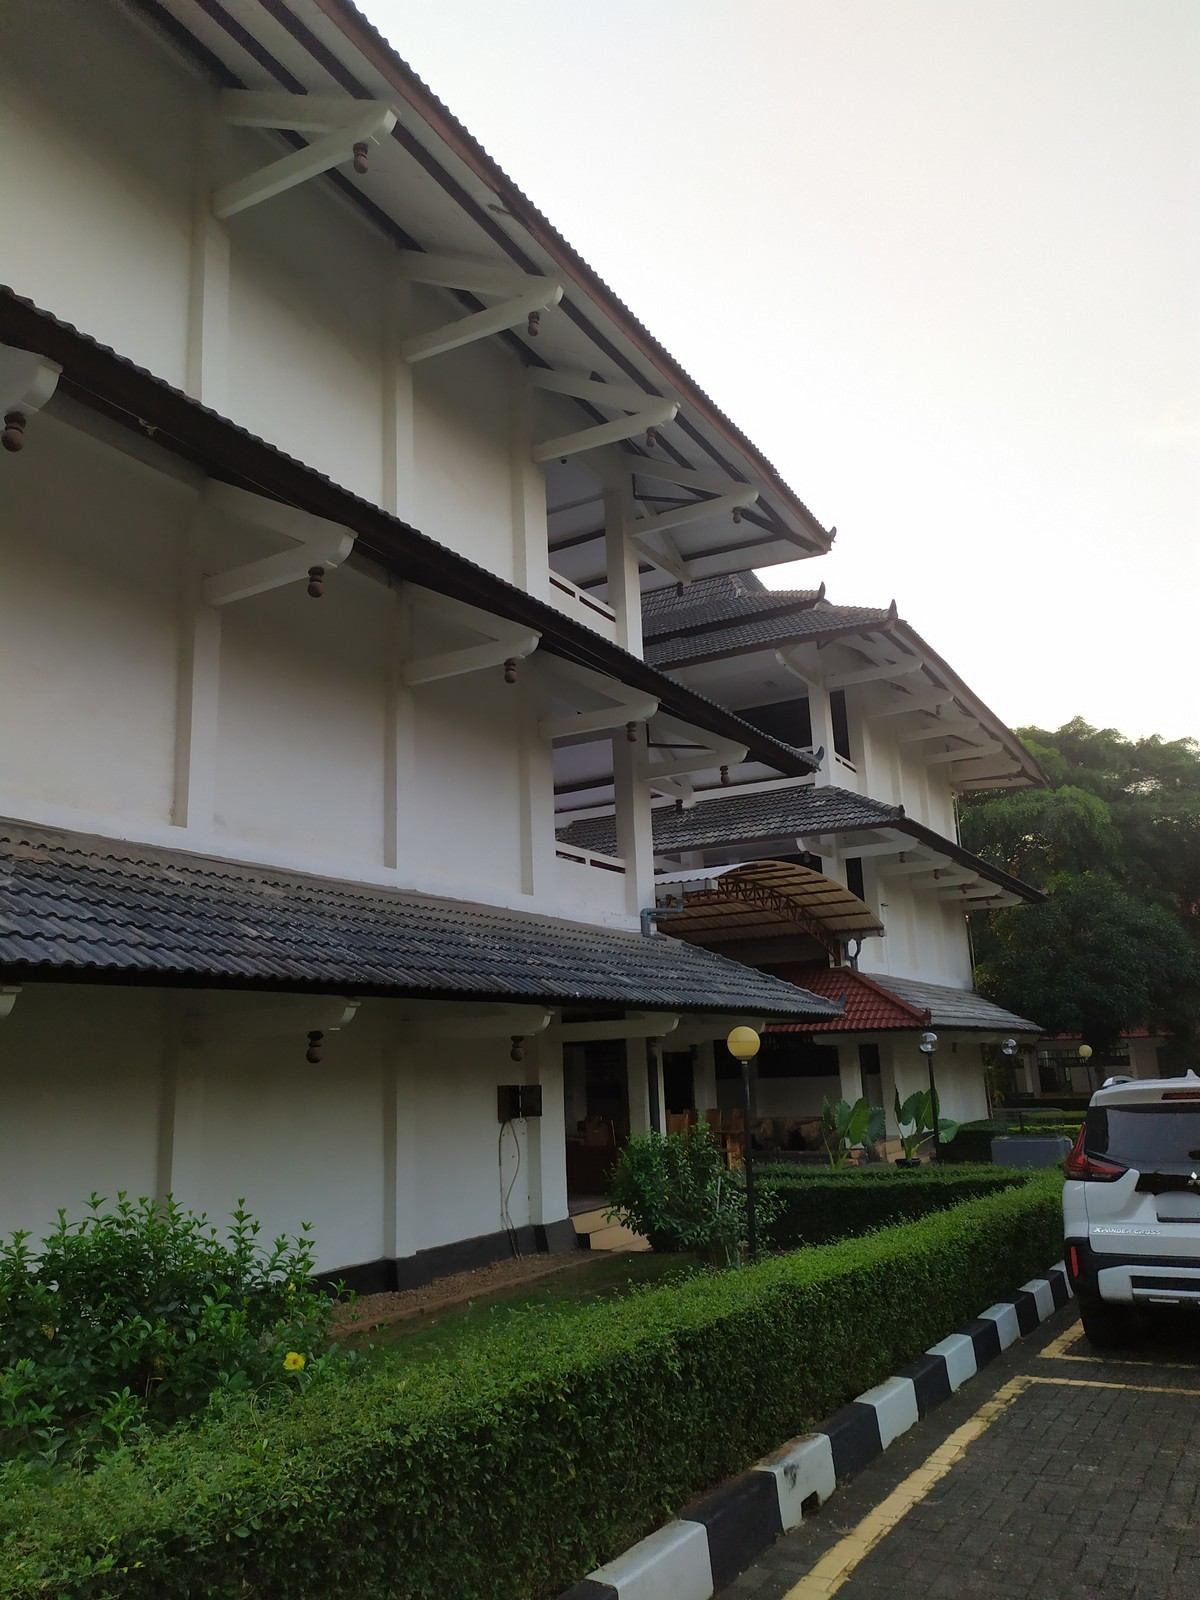concrete column: (180, 76, 246, 408), (170, 506, 227, 834), (153, 1003, 218, 1238), (376, 1027, 429, 1279), (377, 598, 425, 876), (522, 1022, 577, 1250), (376, 249, 422, 515), (513, 677, 568, 896), (505, 363, 558, 582), (610, 713, 655, 923), (601, 455, 648, 658), (800, 677, 841, 779)
